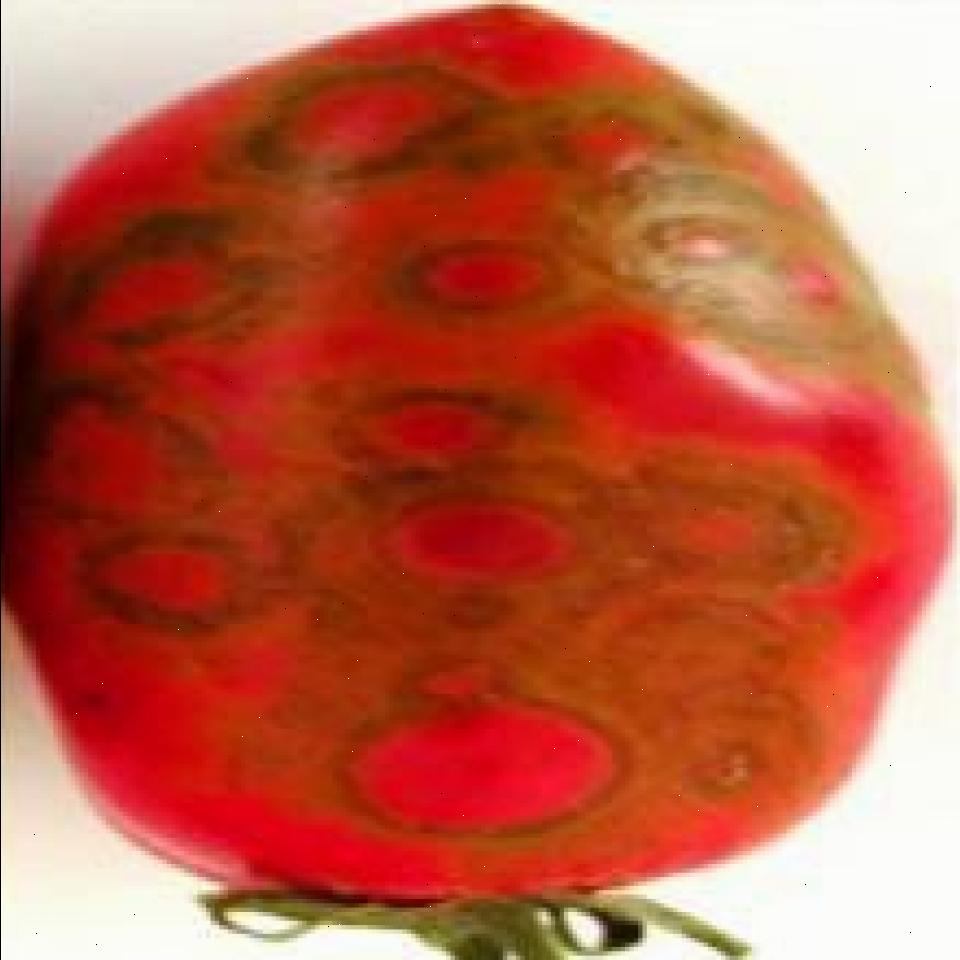Spotted wilt Virus: (0, 0, 956, 912)
